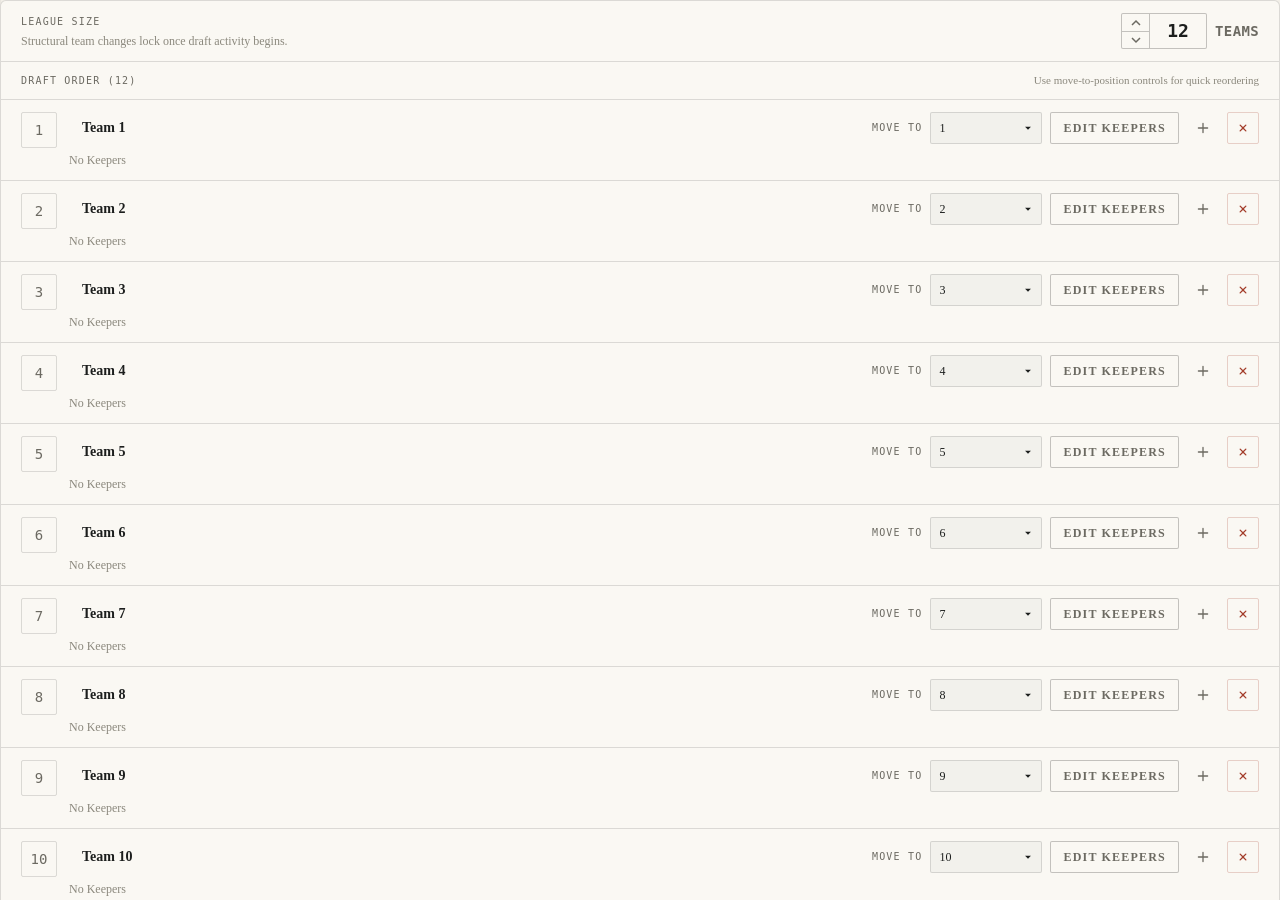
Test: settings sections › sorts keeper search results by projected points
Step 1. Click the button with aria-label "Show keepers for Team 1" → (1115, 128), box [1050, 112, 1179, 144]
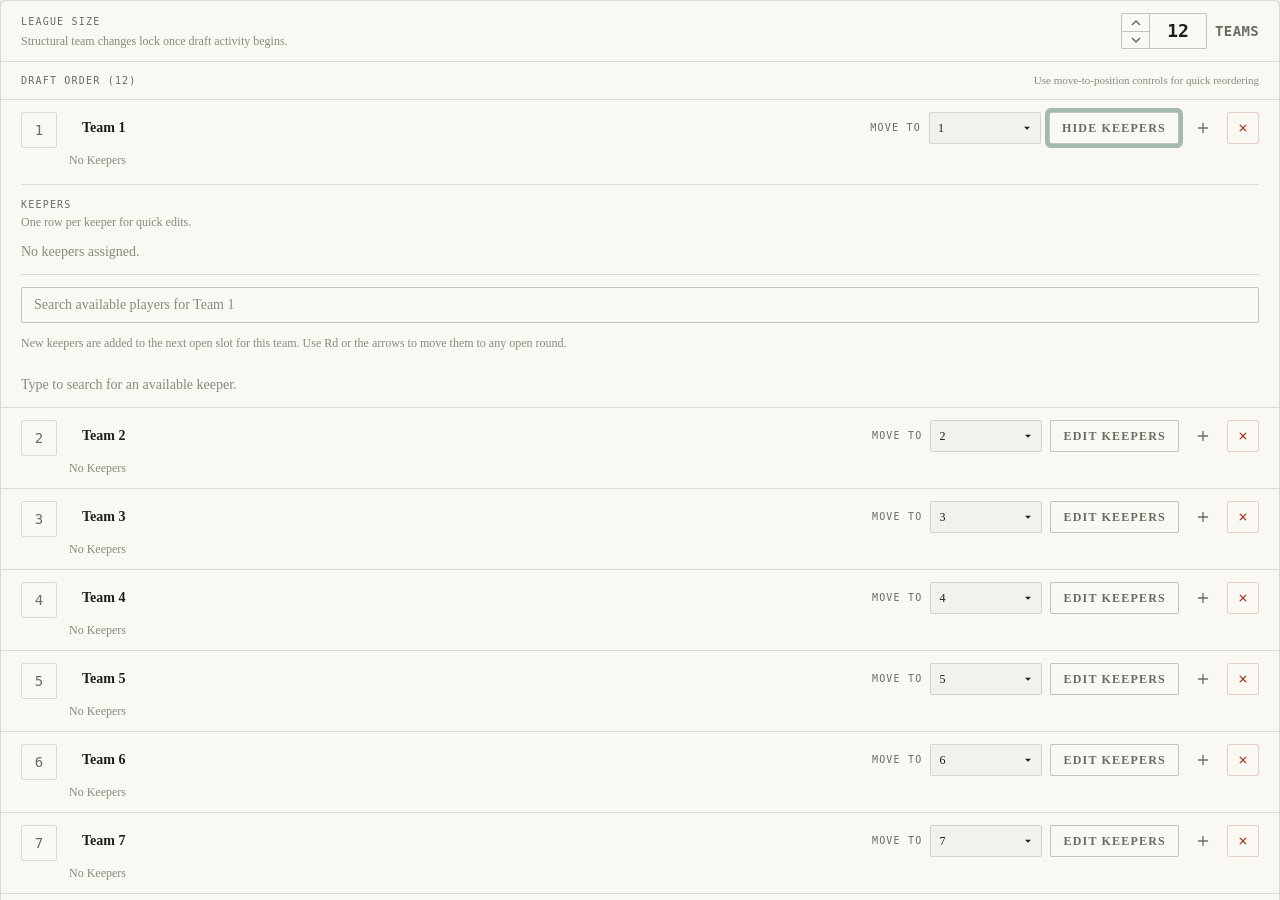
Step 2. Type "aaron" into the field named "Search keepers for Team 1" → (640, 304), box [21, 286, 1259, 322]
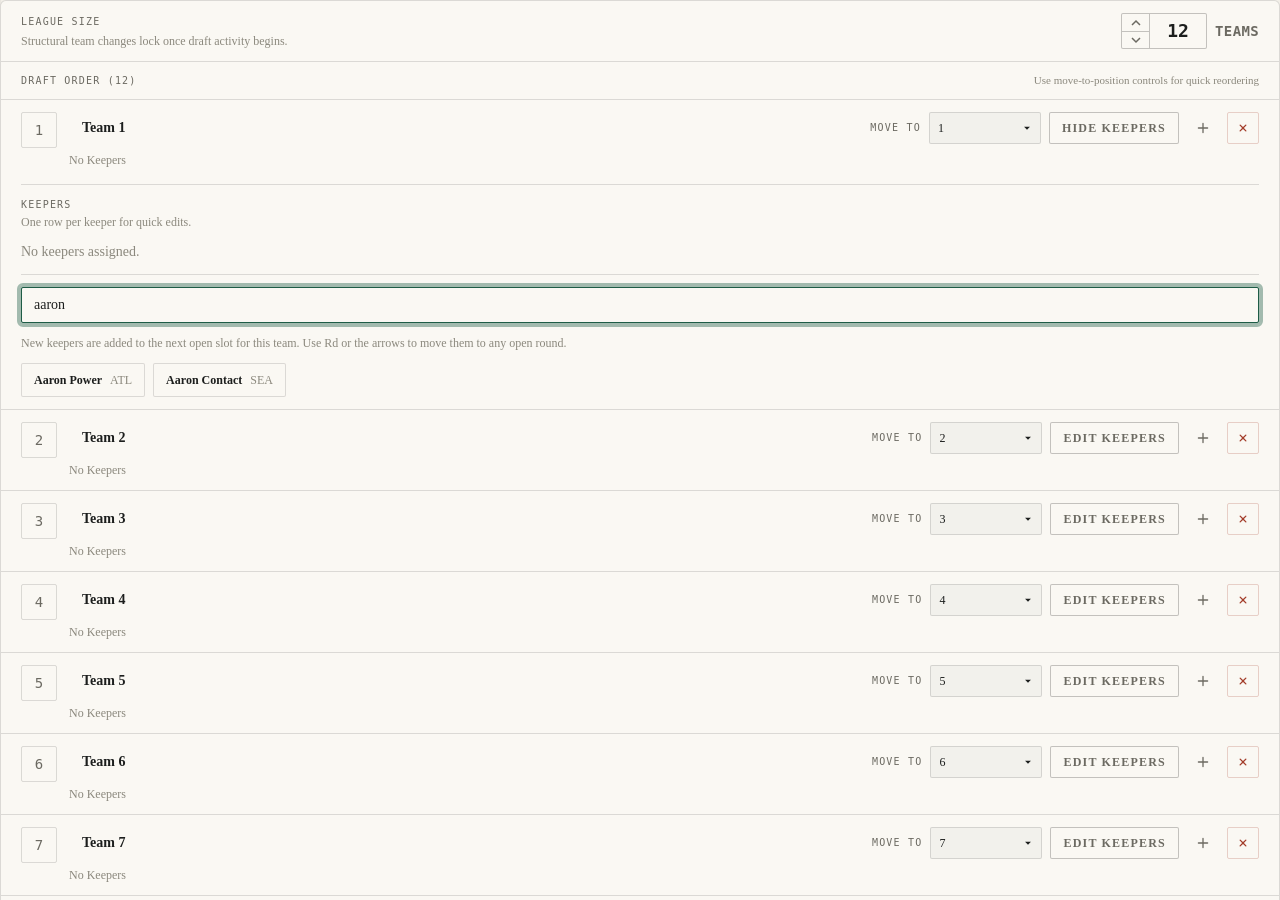
Expected: the button "Aaron Power ATL" is shown, [21, 362, 145, 396]
Expected: the button "Aaron Contact SEA" is shown, [153, 362, 286, 396]
